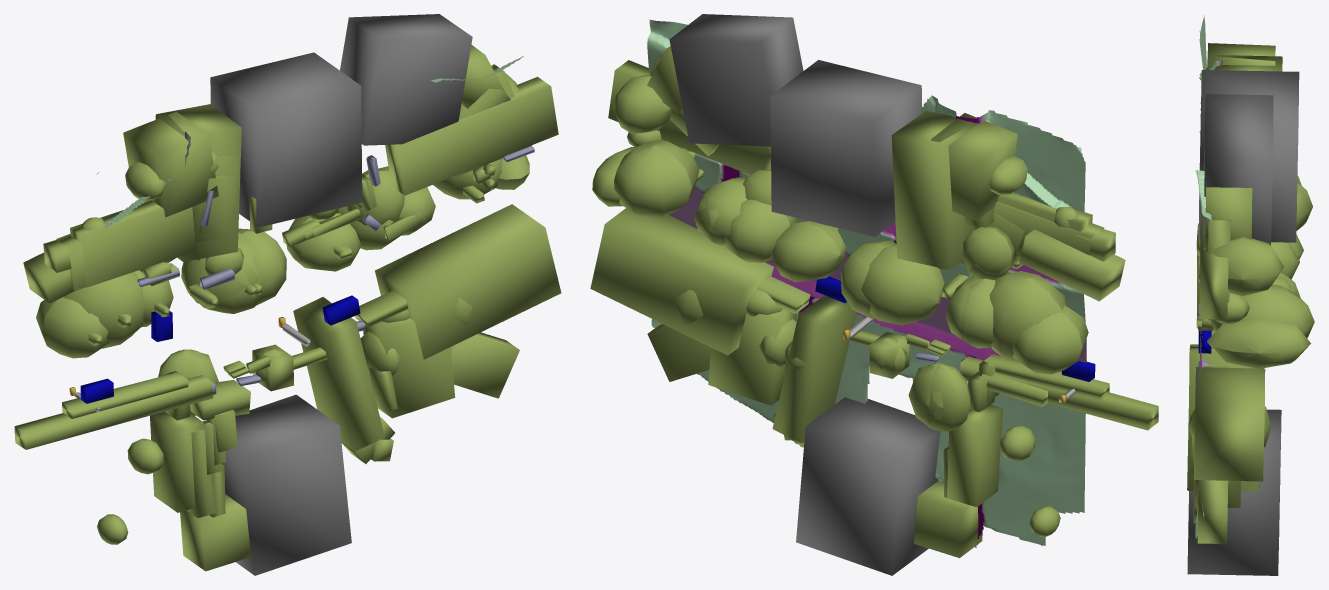
3 renders of one model, left to right at view 1: azimuth 30°, elevation 25°; view 2: azimuth 150°, elevation 25°; view 3: azimuth 270°, elevation 25°, orthographic. The views are drawn at different scales.
Bounding box in the file's own units: 78.64 × 69.92 × 15.85.
